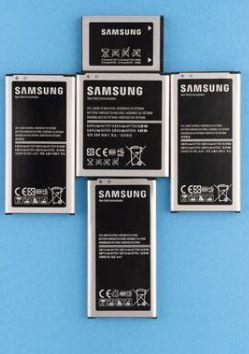battery: (2, 70, 77, 219), (75, 71, 172, 179), (170, 71, 243, 214), (87, 177, 158, 321), (81, 13, 164, 72)
